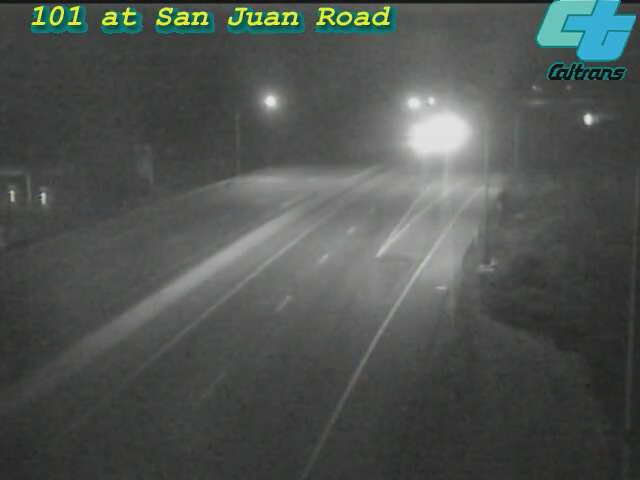vehicle: (561, 94, 611, 144), (405, 110, 455, 160), (427, 106, 477, 156)
